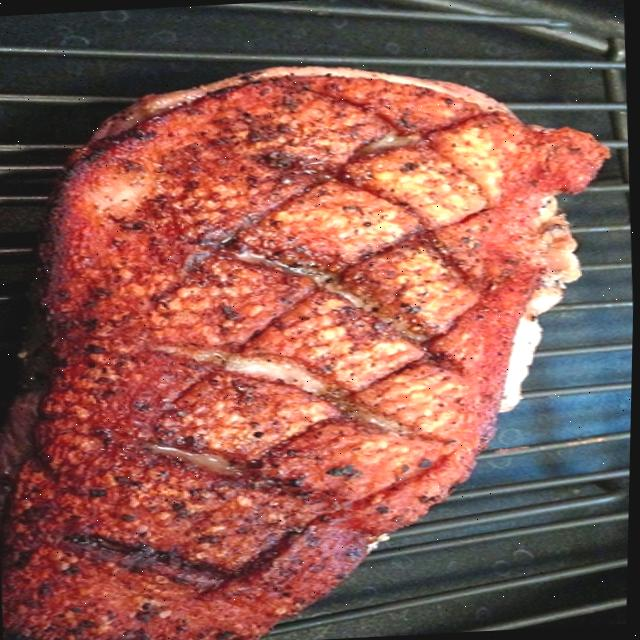烧串烤肉: (0, 39, 608, 640)
